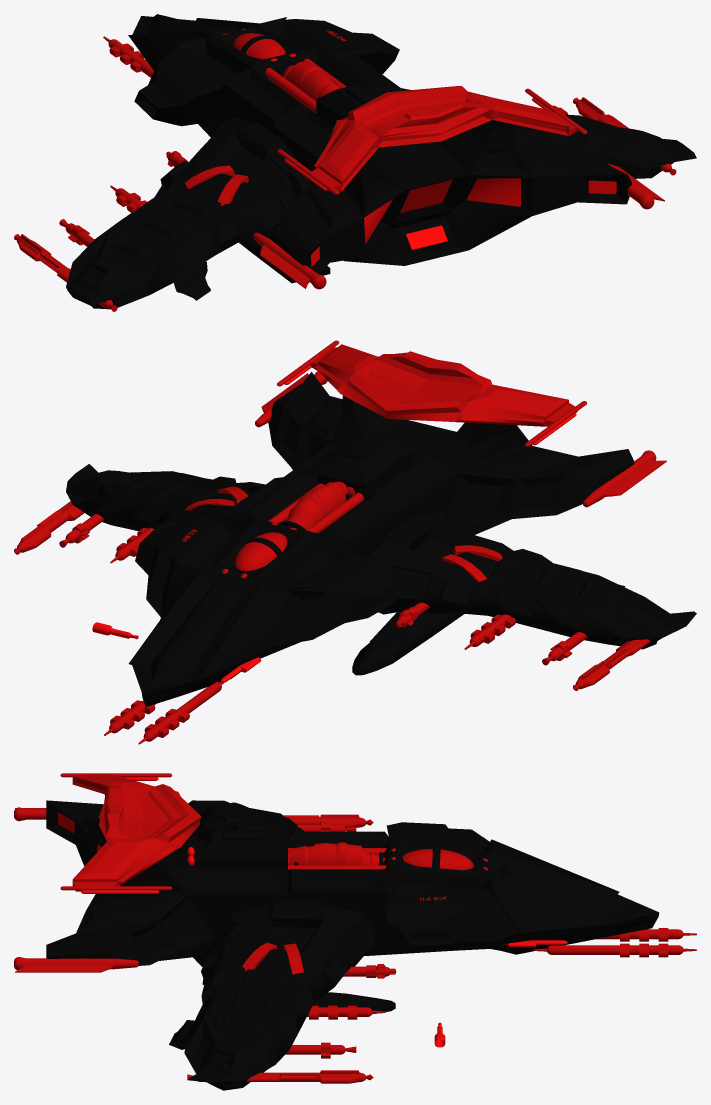
File: valkiria.glb
3 renders of one model, top to bottom at view 1: azimuth 30°, elevation 25°; view 2: azimuth 150°, elevation 25°; view 3: azimuth 270°, elevation 25°, orthographic. The views are drawn at different scales.
Visible parts, largest first — view 1: Box002, Box011, Box003, Box004, ChamferCyl024, Sphere001, ChamferCyl018, Sphere002, ChamferCyl022, ChamferCyl016, Cylinder001, ChamferCyl011 (+4 smaller); view 2: Box002, Box011, Box003, Box004, Box010, Sphere001, ChamferCyl024, ChamferCyl022, Sphere002, ChamferCyl016, ChamferCyl018, ChamferCyl019 (+2 smaller); view 3: Box002, Box004, Box003, Box011, Sphere001, ChamferCyl011, ChamferCyl023, ChamferCyl016, Sphere002, Box009, ChamferCyl018, ChamferCyl014 (+4 smaller).
Boxes of the visible parts, box(x1,y1,x2,y2) form: Box002: box(128, 14, 631, 273); Box011: box(66, 117, 310, 309); Box003: box(312, 86, 577, 191); Box004: box(401, 88, 696, 178); ChamferCyl024: box(253, 232, 326, 289); Sphere001: box(282, 61, 340, 100); ChamferCyl018: box(14, 234, 117, 311); Sphere002: box(233, 33, 285, 59); ChamferCyl022: box(103, 36, 153, 77); ChamferCyl016: box(573, 97, 676, 175); Cylinder001: box(265, 68, 316, 113); ChamferCyl011: box(608, 163, 664, 209); Box002: box(128, 372, 634, 706); Box011: box(369, 510, 696, 649); Box003: box(310, 344, 577, 426); Box004: box(66, 464, 265, 530); Box010: box(352, 613, 463, 675); Sphere001: box(287, 481, 348, 529); ChamferCyl024: box(582, 450, 666, 507); ChamferCyl022: box(138, 682, 223, 744); Sphere002: box(234, 532, 287, 571); ChamferCyl016: box(14, 501, 84, 554); ChamferCyl018: box(573, 613, 672, 690); ChamferCyl019: box(464, 614, 515, 649); Box002: box(46, 794, 659, 1007); Box004: box(169, 902, 375, 1090); Box003: box(72, 774, 201, 891); Box011: box(188, 800, 304, 836); Sphere001: box(288, 842, 385, 865); ChamferCyl011: box(14, 957, 138, 972); ChamferCyl023: box(533, 943, 696, 957); ChamferCyl016: box(187, 1070, 373, 1083); Sphere002: box(402, 849, 473, 870); Box009: box(316, 992, 395, 1014); ChamferCyl018: box(283, 814, 373, 827); ChamferCyl014: box(307, 1005, 385, 1019).
Size of the model in its own units: 121 by 35.44 by 125.
